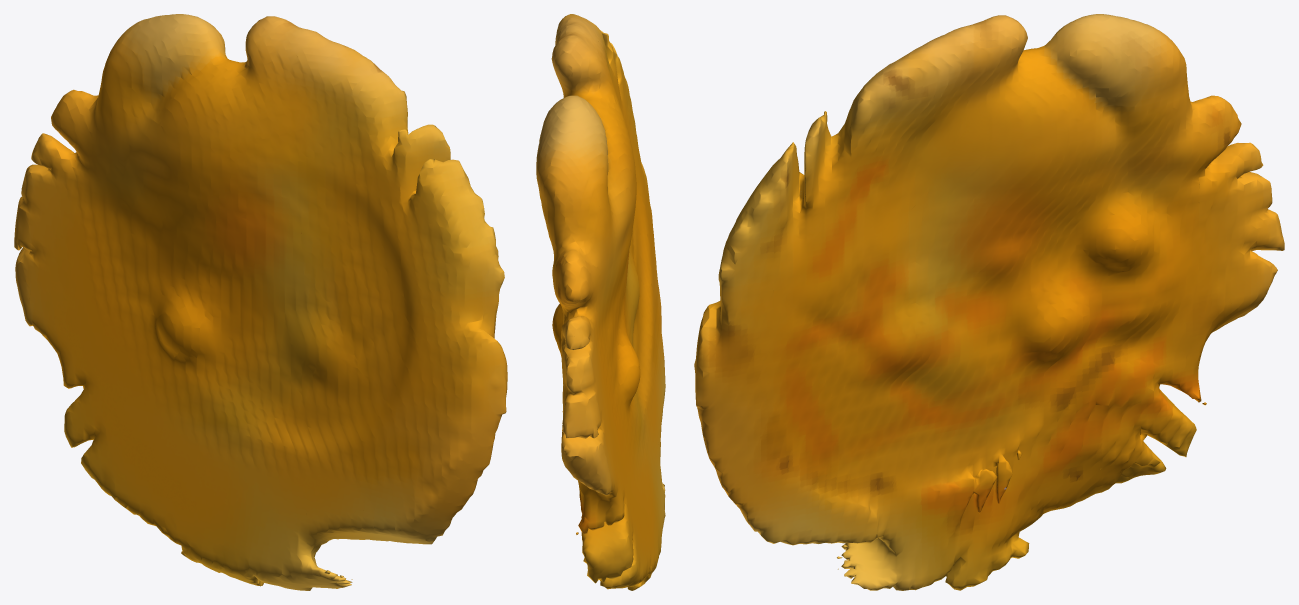
The model's file is cheesepizza.fbx.
3 renders of one model, left to right at view 1: azimuth 30°, elevation 25°; view 2: azimuth 150°, elevation 25°; view 3: azimuth 270°, elevation 25°, orthographic. The views are drawn at different scales.
Parts seen in each view (by area): view 1: Layer_1; view 2: Layer_1; view 3: Layer_1.
Part boxes in pixels (<box>): Layer_1: <box>14,14,507,590</box>; Layer_1: <box>536,14,665,590</box>; Layer_1: <box>694,14,1284,590</box>.
Size of the model in its own units: 0.2907 by 0.5596 by 0.6178.
